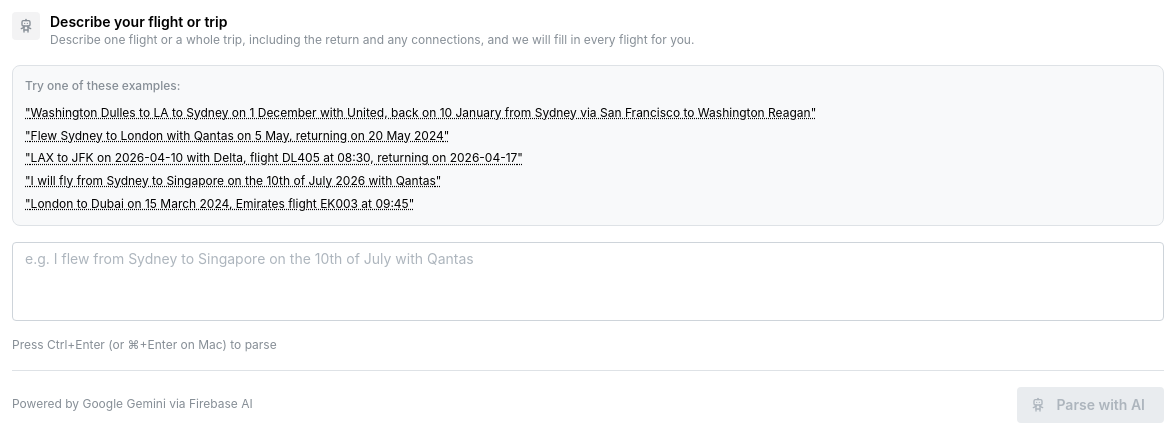
FlightChatInput › parse button is enabled after typing in the textarea
The image size is (1176, 440).
Type "SYD to SIN" into the text box at (588, 281), box [12,242,1164,321]
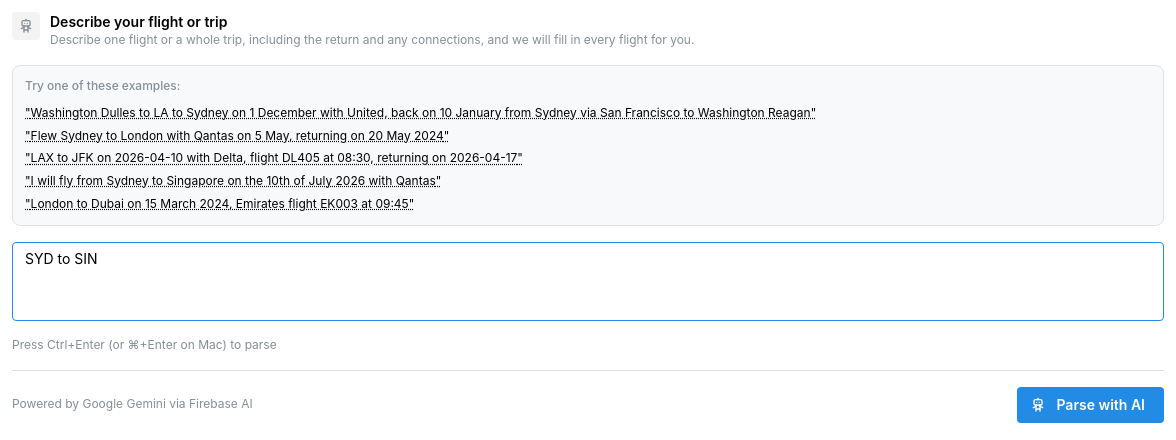
Result: the button "Parse with AI" is enabled at [1018,387,1164,423]
